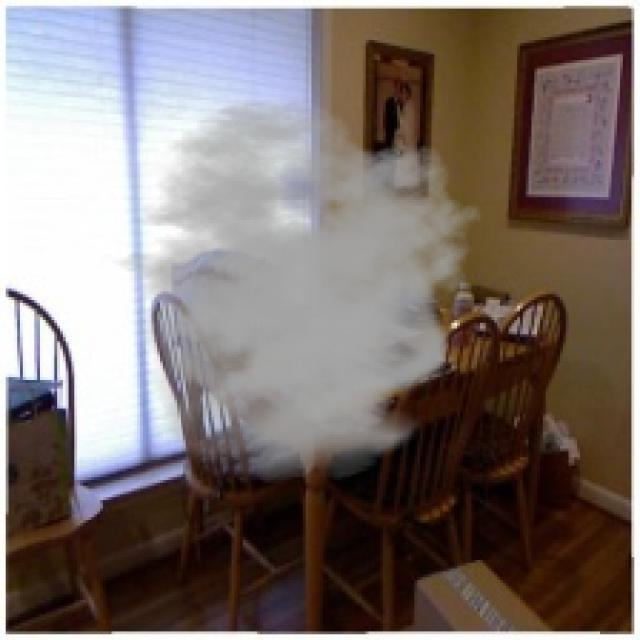Smoke: (97, 97, 483, 483)
